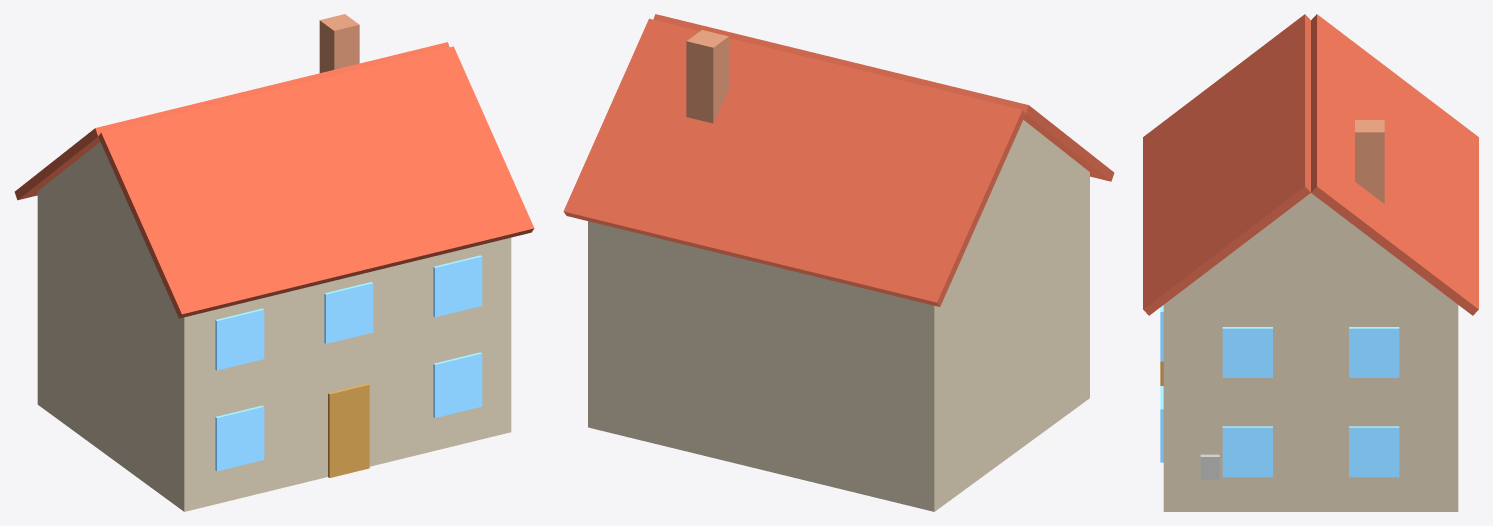
File: house.glb
The picture shows the model from 3 angles, left to right: view 1: azimuth 30°, elevation 25°; view 2: azimuth 150°, elevation 25°; view 3: azimuth 270°, elevation 25°; orthographic projection. The views are drawn at different scales.
Parts seen in each view (by area): view 1: walls, roof_front, window (×5), gable, roof_back, door, chimney; view 2: walls, roof_back, gable, roof_front, chimney; view 3: walls, roof_front, roof_back, gable, window (×4), chimney, meter_box.
Part boxes in pixels (x1,y1,x2,y2): walls: (37,192,511,511); roof_front: (98,46,534,318); window (×5): (215,255,482,471); gable: (38,142,162,282); roof_back: (14,42,449,200); door: (328,383,369,477); chimney: (319,14,359,72); walls: (588,172,1089,511); roof_back: (563,18,1025,306); gable: (957,120,1089,269); roof_front: (653,14,1114,181); chimney: (686,30,728,123); walls: (1163,298,1458,511); roof_front: (1143,14,1310,315); roof_back: (1311,14,1478,315); gable: (1172,193,1449,298); window (×4): (1222,327,1399,477); chimney: (1355,120,1384,203); meter_box: (1200,454,1219,479).
Bounding box in the file's own units: 9.7 × 9.24 × 7.98.
